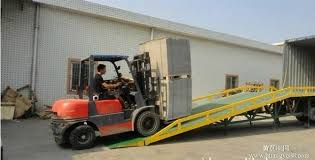Pallet Jack: (50, 51, 189, 151)
Yard Ramp: (107, 85, 315, 150)
